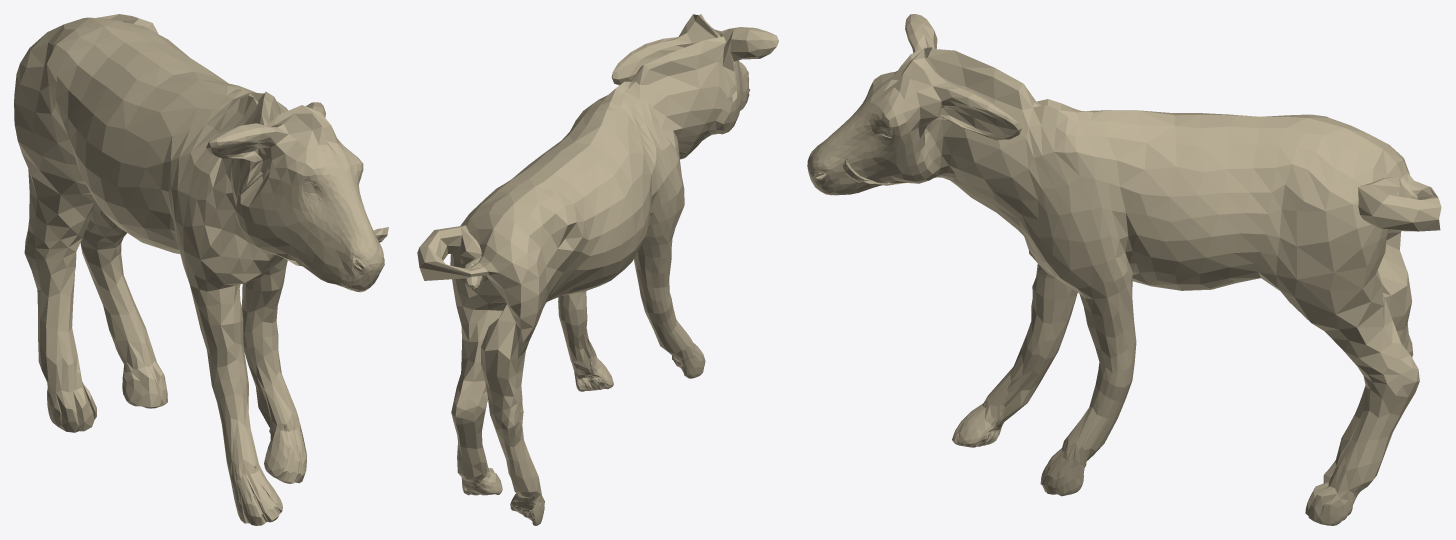
The picture shows the model from 3 angles, left to right: view 1: azimuth 30°, elevation 25°; view 2: azimuth 150°, elevation 25°; view 3: azimuth 270°, elevation 25°; orthographic projection. The views are drawn at different scales.
Parts seen in each view (by area): view 1: world; view 2: world; view 3: world.
Boxes of the visible parts, box(x1,y1,x2,y2) form: world: box(14, 14, 388, 525); world: box(417, 14, 778, 525); world: box(807, 14, 1441, 525).
Size of the model in its own units: 0.5932 by 1.39 by 1.76.
